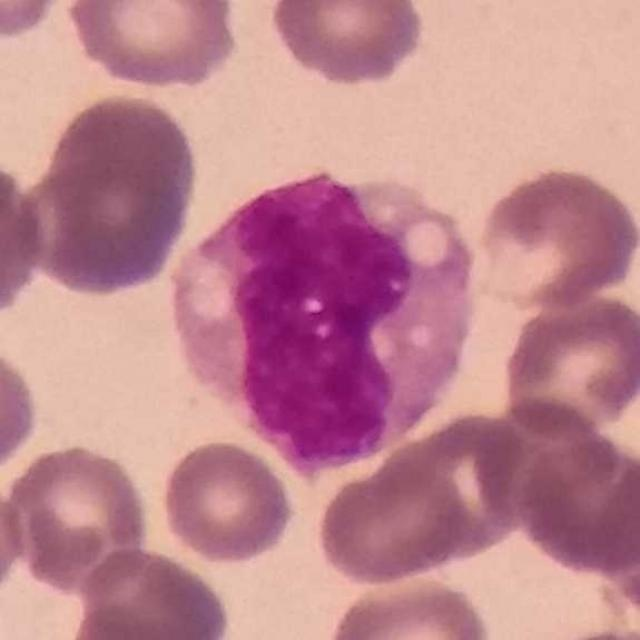Monocyte: (171, 165, 480, 478)
RBC: (316, 408, 533, 586), (27, 87, 204, 300), (469, 162, 640, 312), (2, 438, 154, 596), (498, 287, 640, 437), (510, 426, 640, 581), (157, 436, 298, 566), (61, 0, 243, 91), (70, 544, 234, 640), (266, 0, 430, 89), (324, 571, 497, 640), (593, 444, 640, 633), (0, 146, 49, 327), (0, 337, 42, 484), (61, 602, 220, 640), (0, 471, 29, 606), (0, 0, 74, 43)
